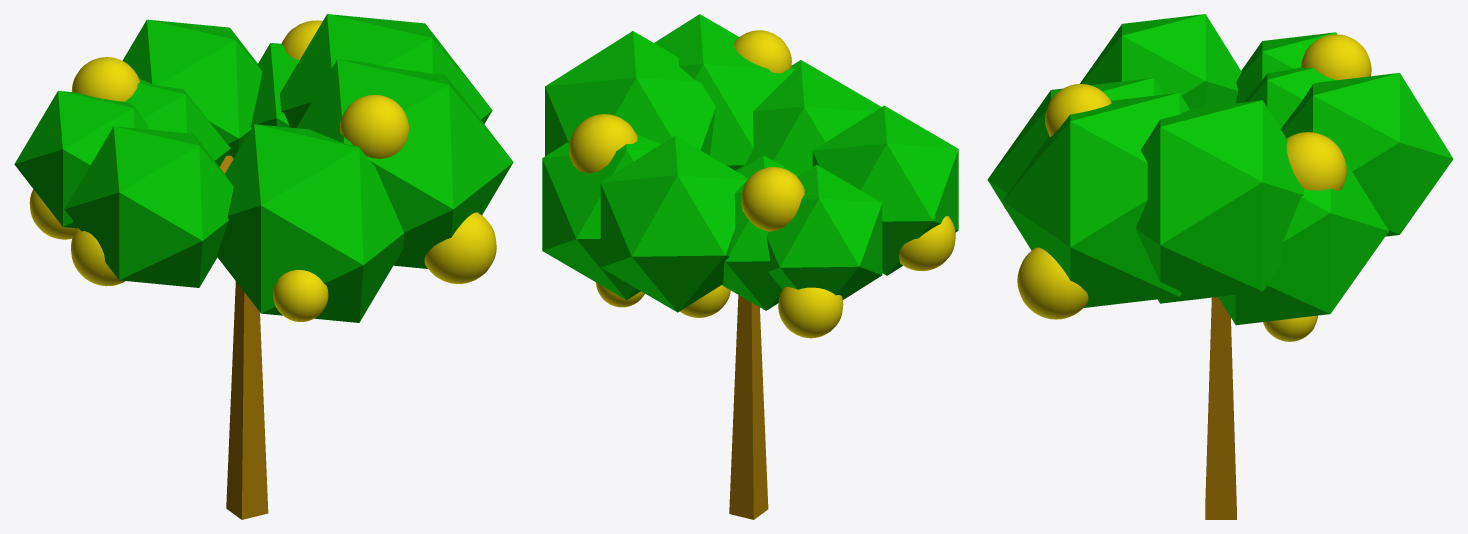
File: Low_poly_orange_tree.fbx
3 views of the same model, side by side, from view 1: azimuth 30°, elevation 25°; view 2: azimuth 150°, elevation 25°; view 3: azimuth 270°, elevation 25° (orthographic). The views are drawn at different scales.
Visible parts, largest first — view 1: Orange_Tree; view 2: Orange_Tree; view 3: Orange_Tree.
Boxes of the visible parts, left/top/right/bottom form: Orange_Tree: left=14, top=14, right=513, bottom=519; Orange_Tree: left=542, top=14, right=958, bottom=519; Orange_Tree: left=987, top=14, right=1453, bottom=519.
Bounding box in the file's own units: 8.07 × 8.61 × 7.86.
